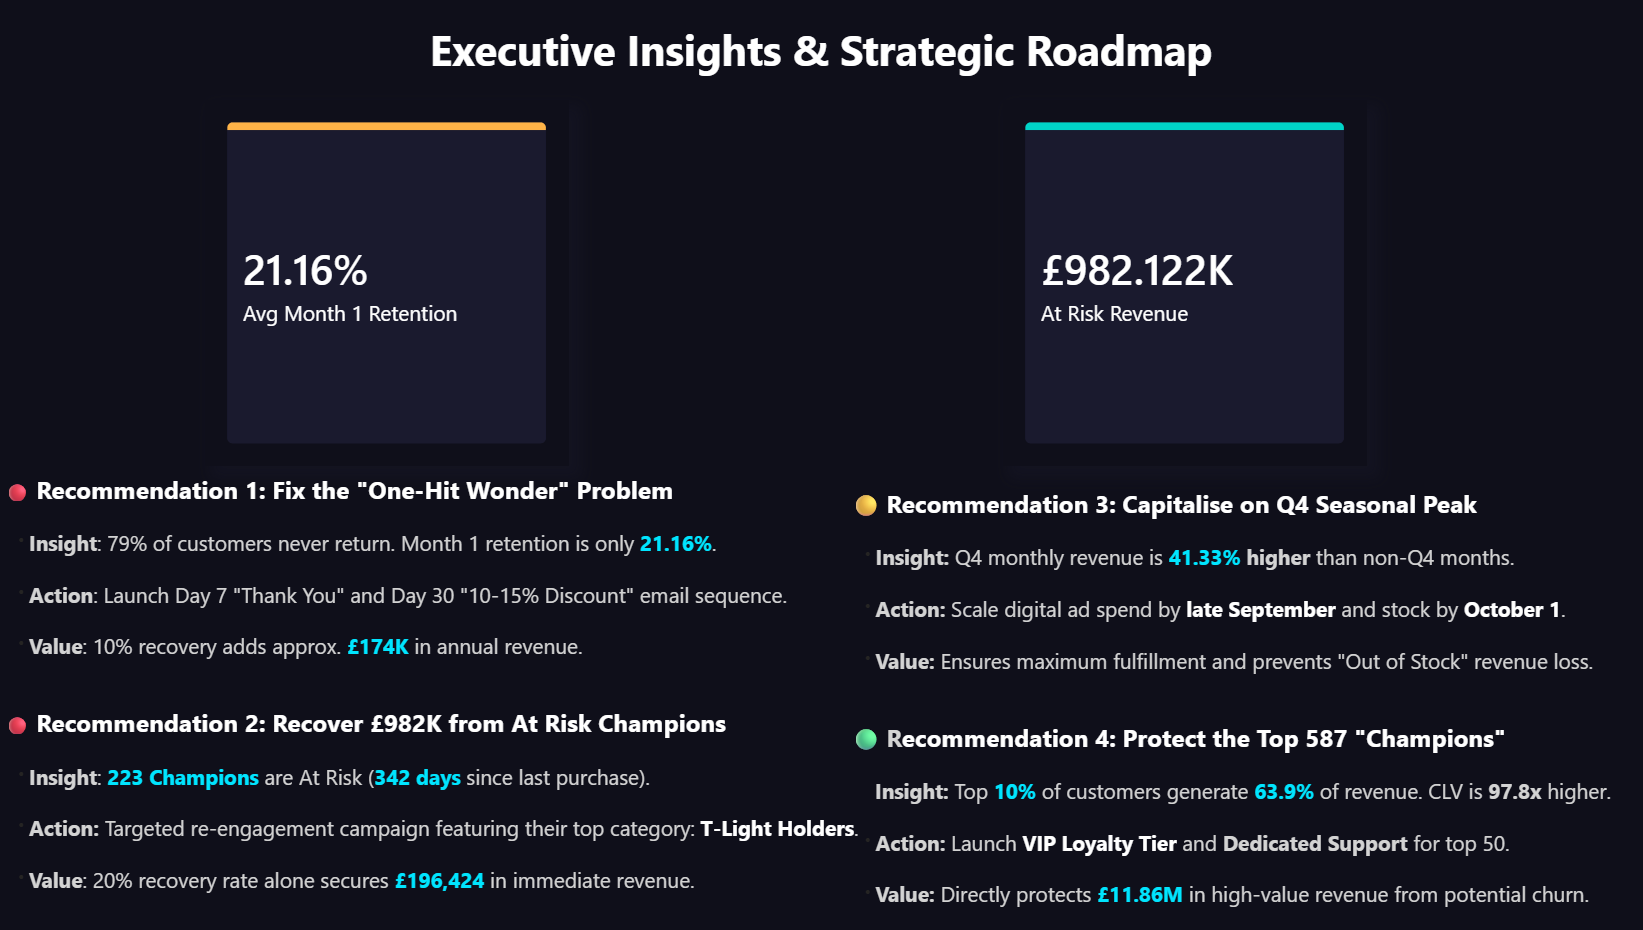

The dashboard page shown, as its layout file describes it:
{"tool":"powerbi","page":{"name":"Strategic Roadmap","canvas":[1280,720],"ordinal":3},"visuals":[{"type":"cardVisual","fields":{"Data":["fact_sales.Avg Month 1 Retention"]},"box":[168.4,82.7,278.7,280.2],"z":0},{"type":"cardVisual","fields":{"Data":["Sum(fact_sales.revenue)"]},"box":[779.3,82.7,278.7,280.2],"z":1000},{"type":"textbox","box":[0,16.8,1280,128.6],"z":2000},{"type":"textbox","box":[10.7,362.9,1270.8,359.8],"z":3000},{"type":"textbox","box":[658.4,373.6,624.7,349.1],"z":4000}]}

Visuals, with their boxes in screenshot pixels (x1, y1, x2, y2), scaled from the page's 1280x720 canvas onto the 1643x930 screenshot:
cardVisual - fact_sales.Avg Month 1 Retention: {"left": 216, "top": 107, "right": 574, "bottom": 469}
cardVisual - Sum(fact_sales.revenue): {"left": 1000, "top": 107, "right": 1358, "bottom": 469}
textbox: {"left": 0, "top": 22, "right": 1642, "bottom": 188}
textbox: {"left": 14, "top": 469, "right": 1642, "bottom": 929}
textbox: {"left": 845, "top": 483, "right": 1642, "bottom": 929}
